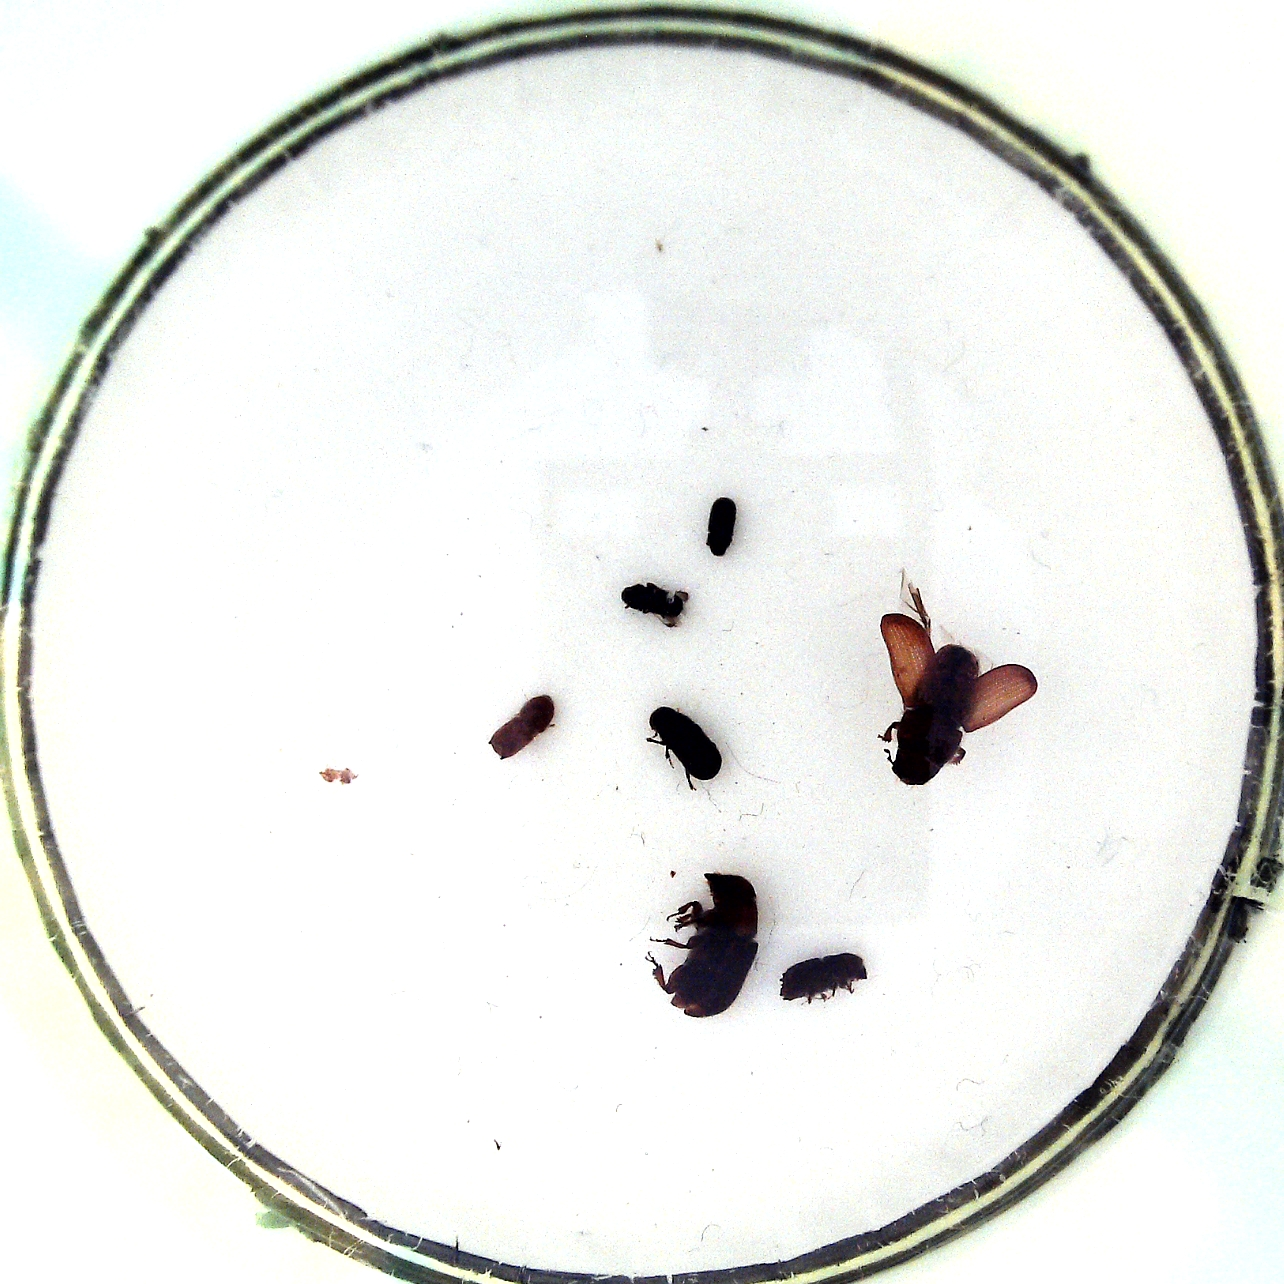Leconte: (882, 575, 1039, 783), (651, 872, 761, 1023)
Linnaeus: (777, 947, 874, 1008)
acuminatus: (487, 693, 559, 762)
armandi: (644, 705, 725, 798)
coleoptera: (616, 575, 690, 626), (697, 488, 738, 560)
